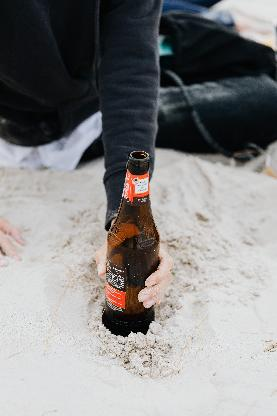Glass Bottle: (101, 150, 161, 338)
